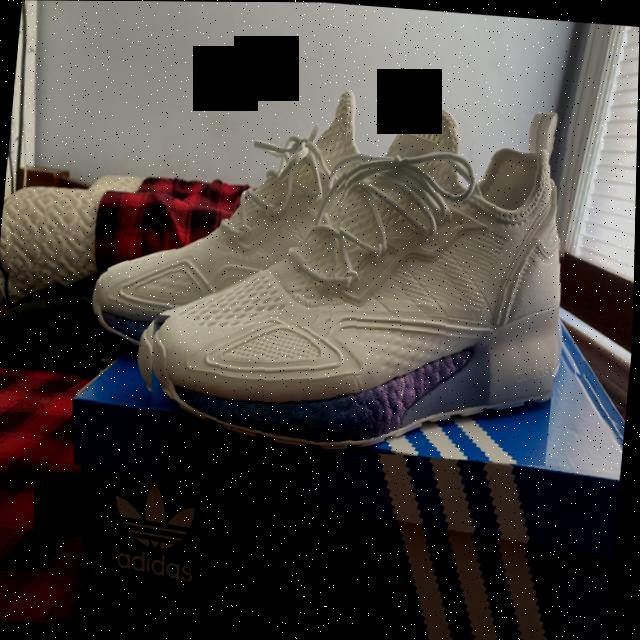shoe: (132, 96, 577, 465), (105, 74, 354, 328)
